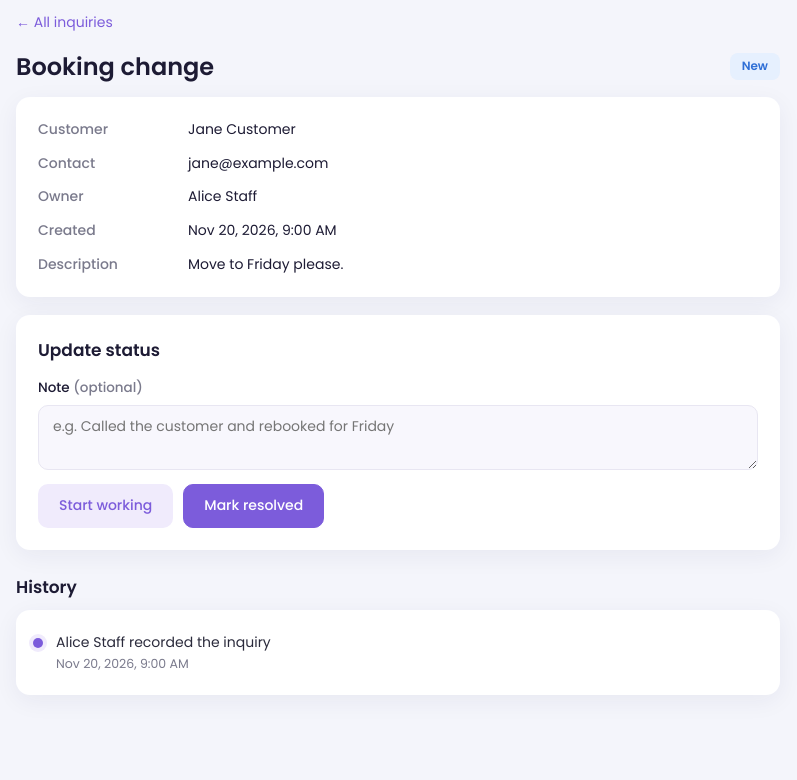
it: InquiryDetailPage › explains a stale tab: shows the newer status from the server and keeps the note
Type "My note" into the text box labelled "Note (optional)" at (398, 437), box left=38, top=405, right=758, bottom=470
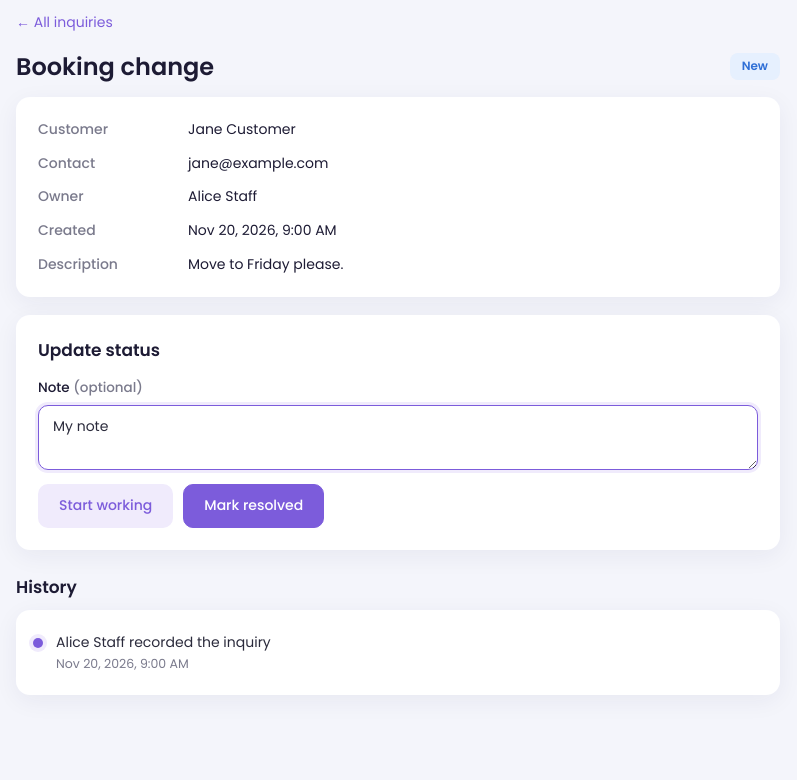
Click the button "Mark resolved" at (254, 506), box left=183, top=484, right=324, bottom=528
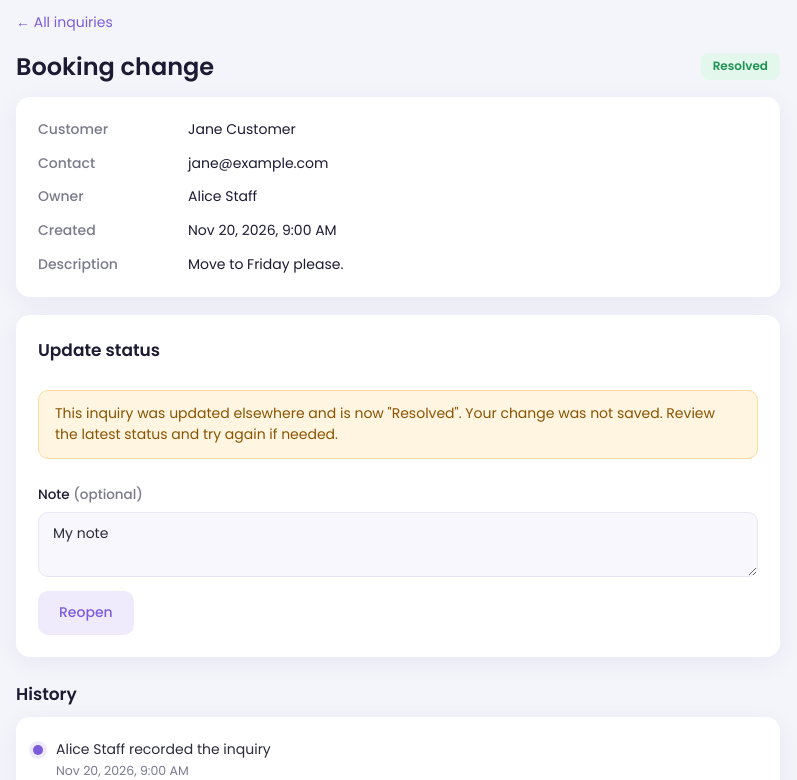
Expected: the message shows "updated elsewhere and is now \"Resolved\"", left=55, top=403, right=715, bottom=444
Expected: the text "Resolved" is shown, left=701, top=53, right=780, bottom=80
Expected: the button "Reopen" is shown, left=38, top=591, right=134, bottom=635
